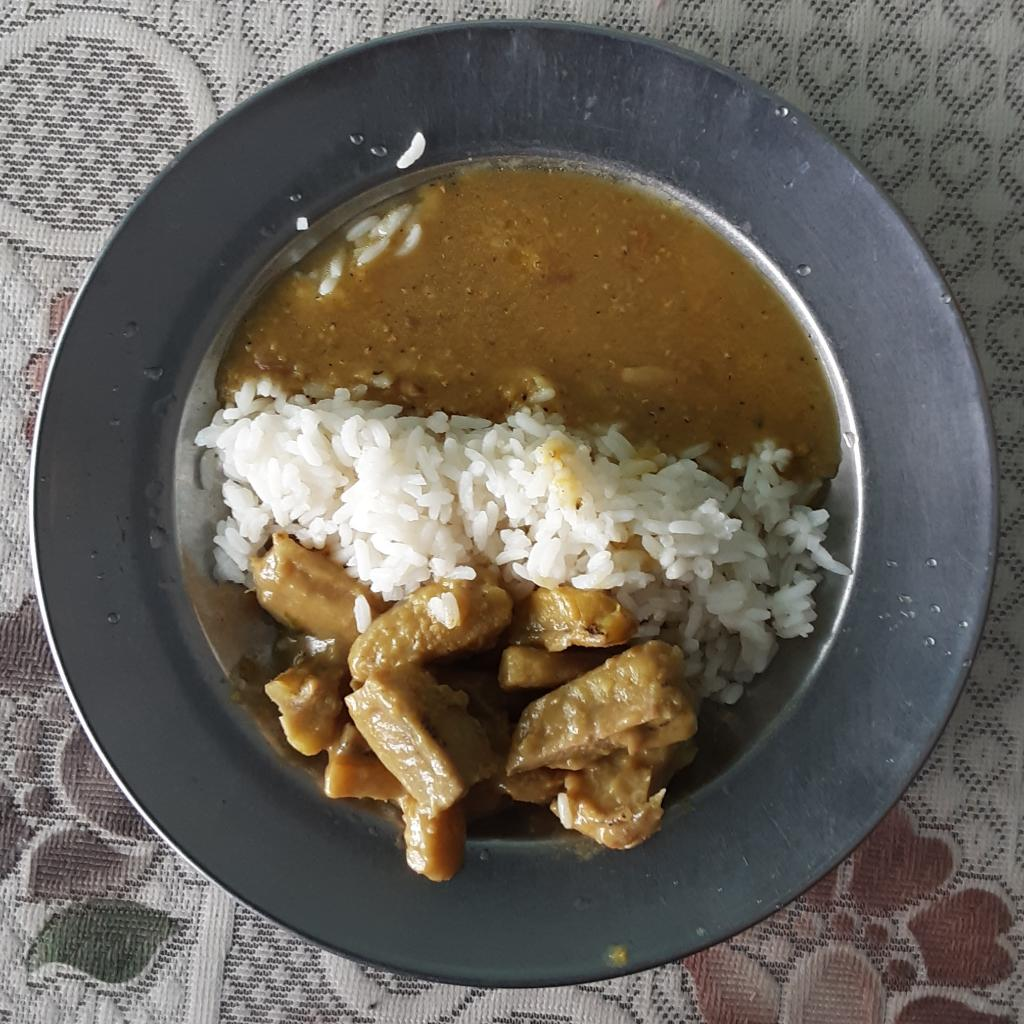daal: (217, 169, 839, 485)
kochu: (253, 534, 705, 886)
rice: (191, 377, 855, 706)
